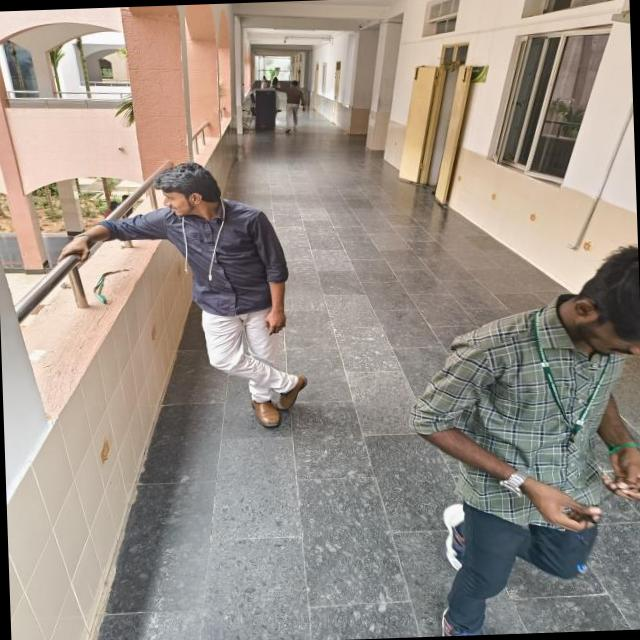id_card: (526, 316, 608, 451)
